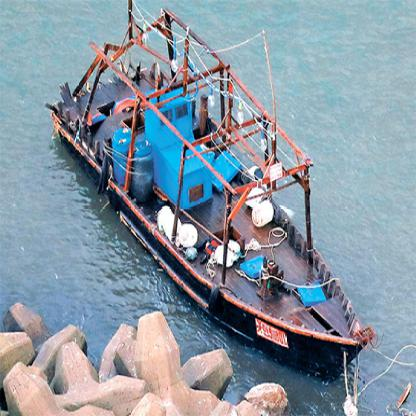fish-b: (43, 0, 377, 390)
